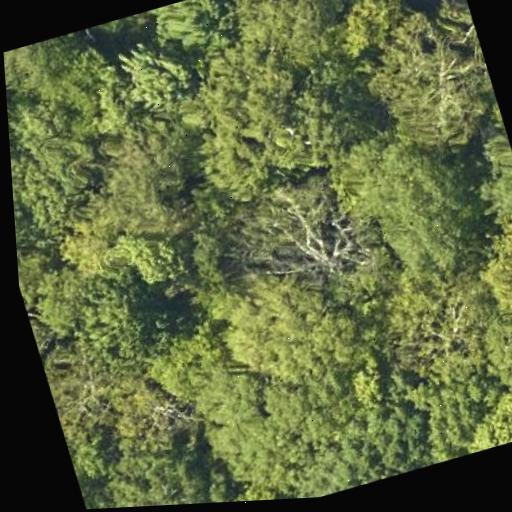tree-top: (178, 267, 423, 504), (171, 23, 371, 210), (353, 0, 508, 164), (340, 131, 494, 290), (213, 259, 373, 407), (223, 168, 376, 311), (87, 107, 214, 246), (36, 324, 146, 438), (135, 313, 248, 422), (109, 0, 232, 97), (79, 431, 226, 509), (411, 357, 512, 465), (230, 0, 358, 78), (182, 109, 277, 209), (21, 126, 110, 232), (457, 163, 512, 329), (457, 120, 512, 286), (106, 23, 201, 117), (13, 198, 66, 366), (71, 260, 167, 349), (309, 0, 420, 65), (138, 0, 242, 60), (5, 69, 40, 231), (3, 34, 78, 107), (472, 230, 512, 337), (192, 468, 299, 504), (401, 0, 466, 9)
